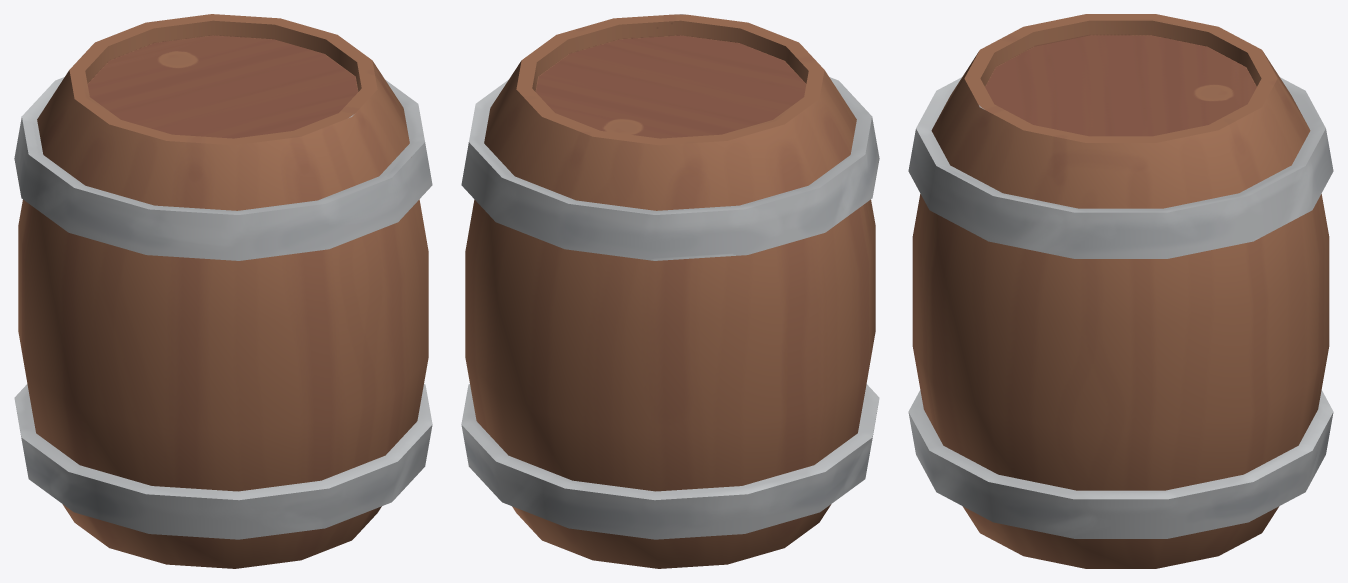
File: Barrel.fbx
3 views of the same model, side by side, from view 1: azimuth 30°, elevation 25°; view 2: azimuth 150°, elevation 25°; view 3: azimuth 270°, elevation 25° (orthographic).
Parts seen in each view (by area): view 1: Barrel; view 2: Barrel; view 3: Barrel.
Part boxes in pixels (box(x1,y1,x2,y2)): Barrel: box(14, 14, 432, 568); Barrel: box(461, 14, 879, 568); Barrel: box(908, 14, 1333, 568).
Bounding box in the file's own units: 265 × 300 × 271.
